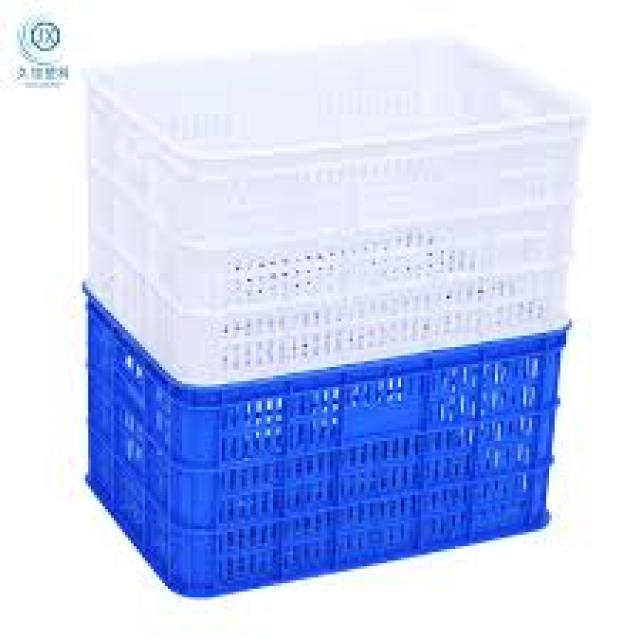basket: (82, 38, 595, 387), (68, 293, 569, 620)
